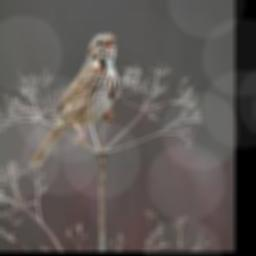Sparrow: (29, 32, 120, 168)
